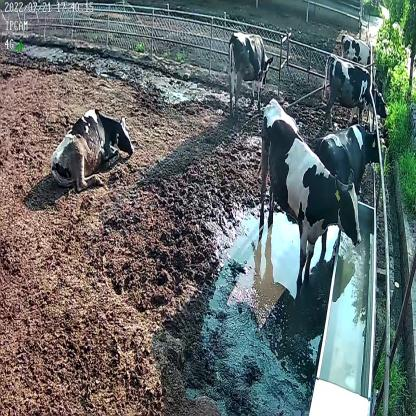cow: (258, 97, 360, 277), (50, 107, 136, 192), (317, 125, 384, 196), (322, 53, 390, 122), (229, 27, 275, 118), (341, 32, 380, 84)
